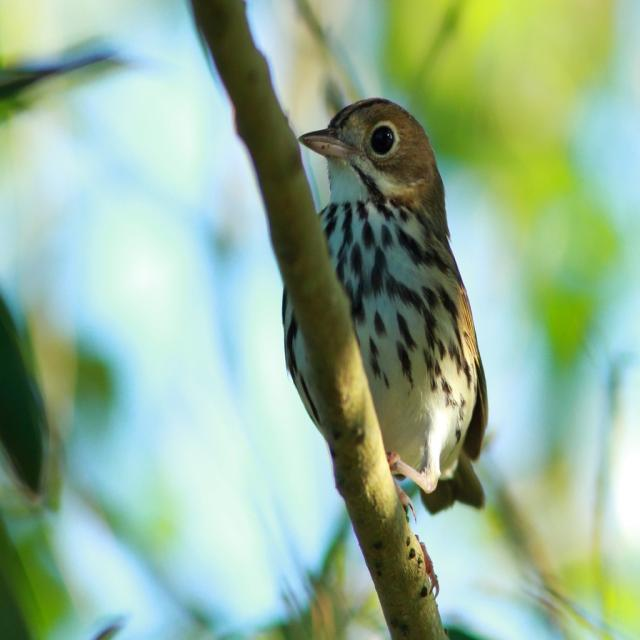bird: (270, 85, 499, 524)
